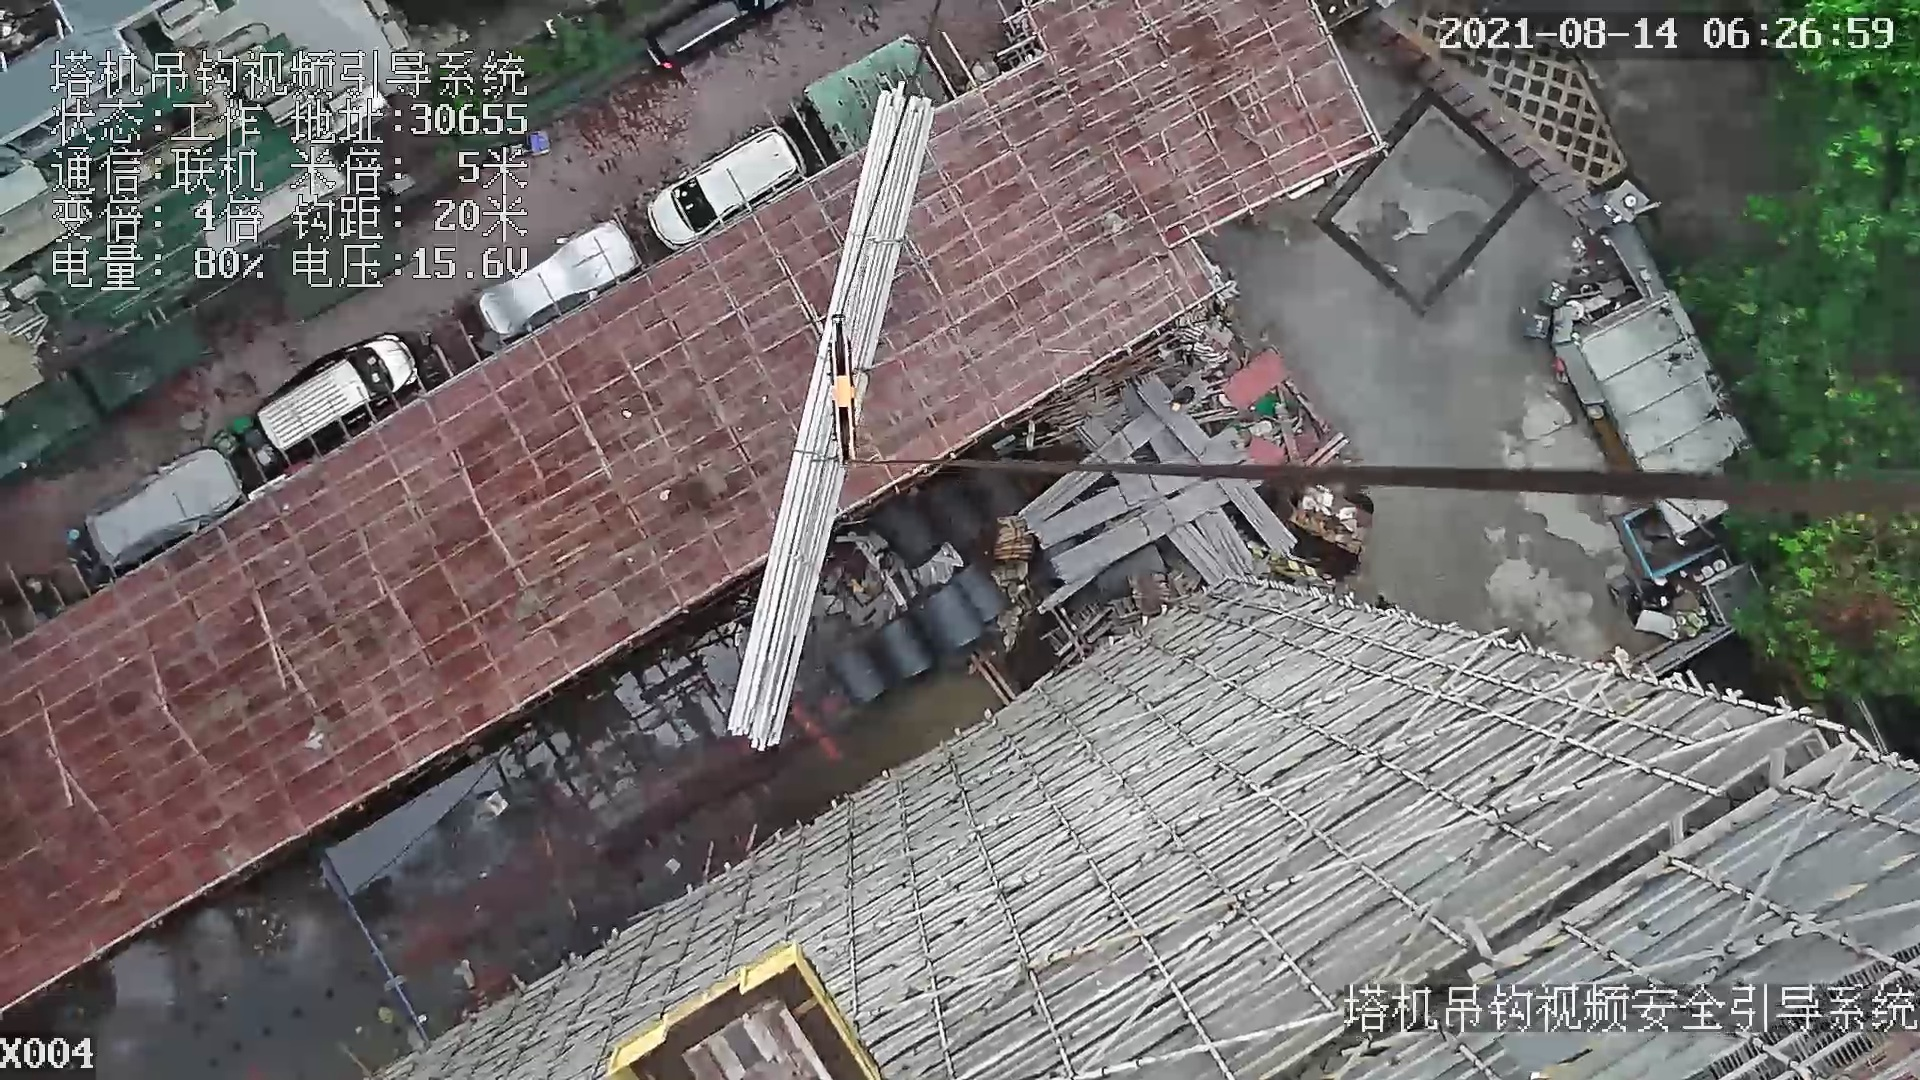hook: (825, 313, 872, 473)
